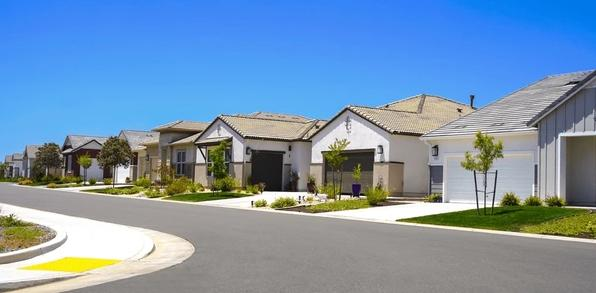casa: (290, 87, 429, 204), (168, 102, 283, 220)
